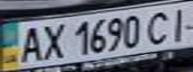0: (121, 12, 148, 50)
1: (69, 18, 90, 56)
6: (87, 16, 109, 54)
9: (103, 15, 127, 52)
A: (15, 24, 45, 63)
C: (142, 8, 178, 45)
I: (163, 3, 193, 42)
X: (36, 20, 69, 61)
